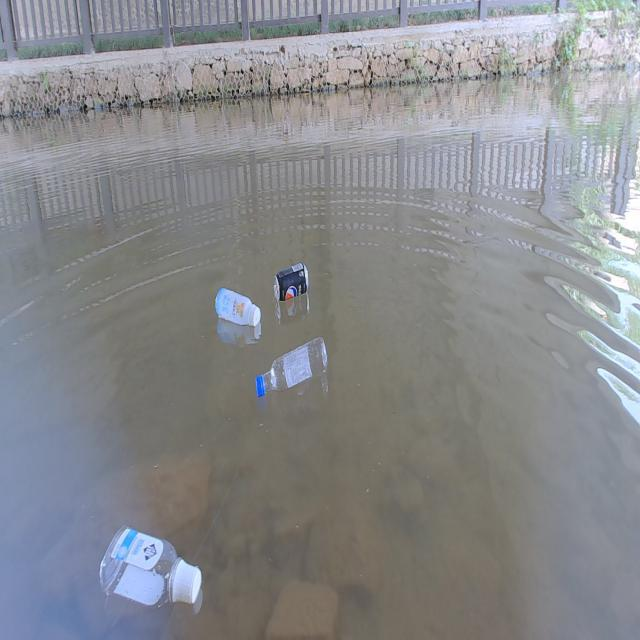bottle: (76, 484, 226, 627), (249, 332, 337, 403), (205, 273, 273, 352)
